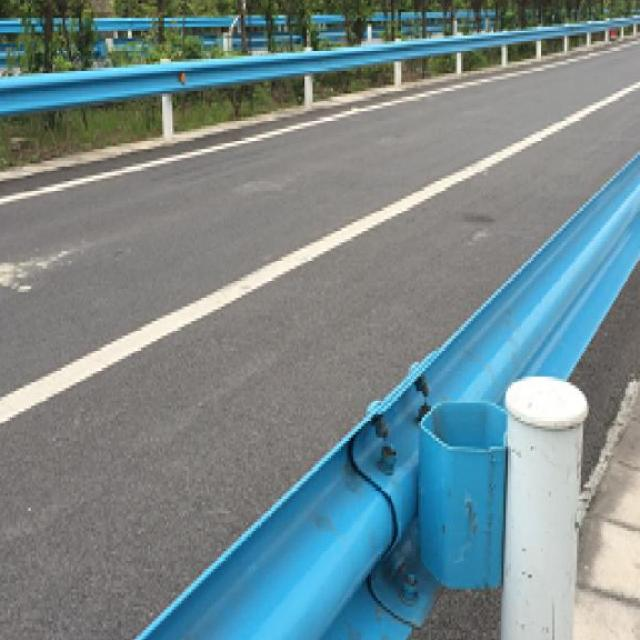Guard rail: (136, 151, 640, 640), (0, 19, 640, 117)
